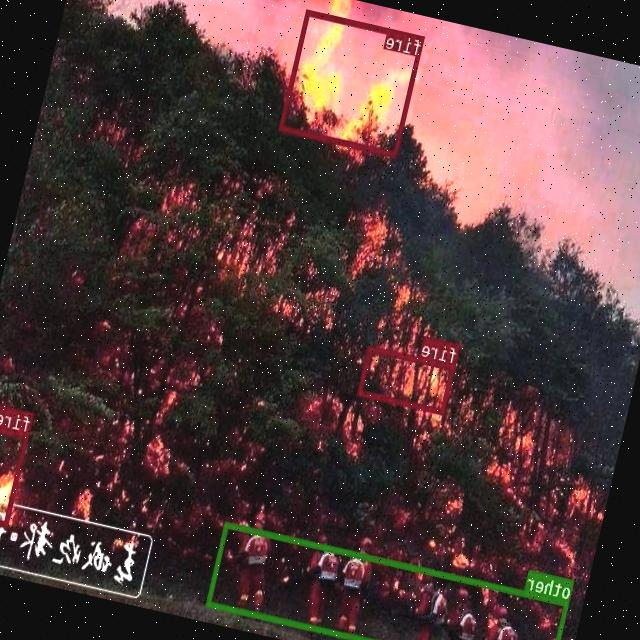fire: (278, 8, 424, 157), (358, 344, 456, 413), (0, 420, 30, 526)
